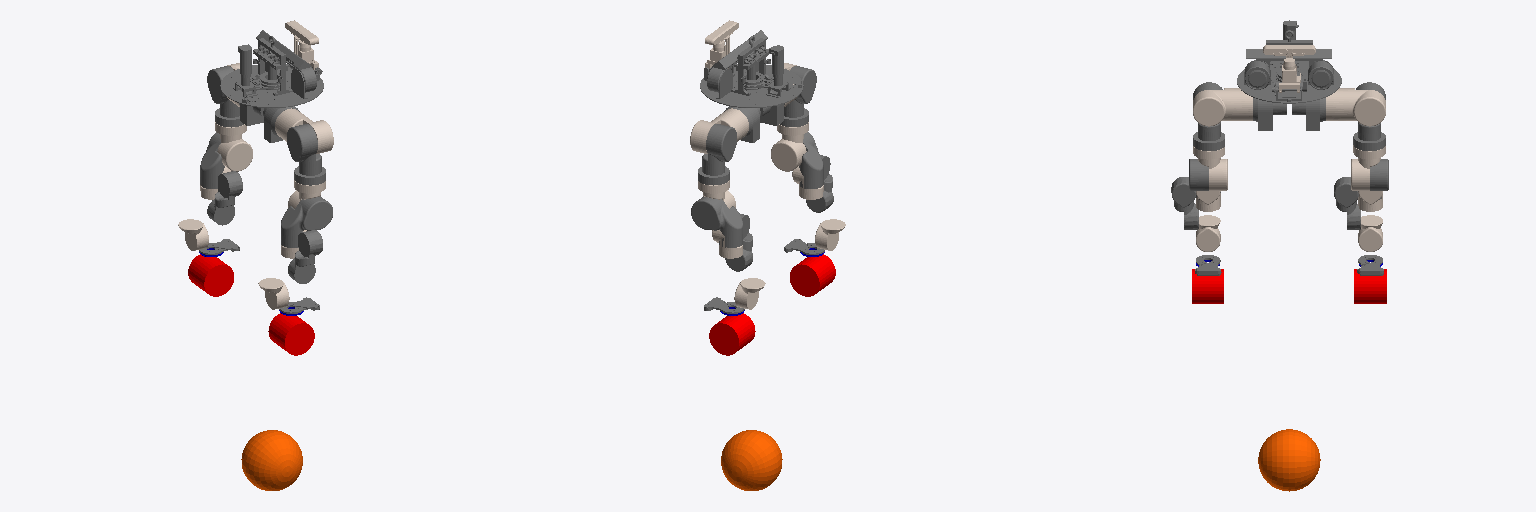
--- What the picture shows (computed from the rendered views, not written in the file) ---
Views: 3 orthographic renders of the robot side by side, from view 1: azimuth 30°, elevation 25°; view 2: azimuth 150°, elevation 25°; view 3: azimuth 270°, elevation 25°.
Robot: ballbot — 55 links, 54 joints (16 revolute, 2 prismatic, 36 fixed); root link BallbotBase; default pose: every joint at zero.
Links seen in each view (by area): view 1: turret_pan, Link_Ball, RArm2, RArm4, payloadL, payloadR, LArm3, LArm6, RArm6, LArm2, RArm1, LArm4 (+4 smaller); view 2: turret_pan, Link_Ball, LArm2, LArm4, payloadR, payloadL, RArm3, LArm1, RArm2, RArm4, turret_tilt, LArm7 (+4 smaller); view 3: turret_pan, Link_Ball, LArm1, RArm1, turret_tilt, payloadL, RArm6, LArm3, payloadR, RArm3, LArm6, LArm2 (+7 smaller).
Link boxes in pixels (x1=…): turret_pan: x1=220, y1=30, x2=323, y2=107; Link_Ball: x1=241, y1=430, x2=302, y2=490; RArm2: x1=287, y1=124, x2=325, y2=185; RArm4: x1=281, y1=196, x2=332, y2=247; payloadL: x1=188, y1=254, x2=233, y2=296; payloadR: x1=268, y1=313, x2=314, y2=355; LArm3: x1=215, y1=122, x2=252, y2=171; LArm6: x1=207, y1=171, x2=242, y2=225; RArm6: x1=288, y1=230, x2=322, y2=283; LArm2: x1=207, y1=66, x2=243, y2=127; RArm1: x1=275, y1=108, x2=333, y2=153; LArm4: x1=200, y1=132, x2=224, y2=188; turret_pan: x1=700, y1=30, x2=803, y2=107; Link_Ball: x1=721, y1=430, x2=782, y2=490; LArm2: x1=698, y1=124, x2=736, y2=185; LArm4: x1=691, y1=196, x2=742, y2=247; payloadR: x1=790, y1=254, x2=835, y2=296; payloadL: x1=709, y1=313, x2=755, y2=355; RArm3: x1=771, y1=122, x2=808, y2=171; LArm1: x1=690, y1=108, x2=748, y2=153; RArm2: x1=780, y1=66, x2=816, y2=126; RArm4: x1=799, y1=132, x2=823, y2=188; turret_tilt: x1=705, y1=20, x2=738, y2=68; LArm7: x1=734, y1=278, x2=765, y2=309; turret_pan: x1=1237, y1=20, x2=1341, y2=103; Link_Ball: x1=1258, y1=429, x2=1320, y2=491; LArm1: x1=1326, y1=88, x2=1385, y2=126; RArm1: x1=1193, y1=88, x2=1252, y2=126; turret_tilt: x1=1263, y1=45, x2=1315, y2=92; payloadL: x1=1354, y1=269, x2=1386, y2=303; RArm6: x1=1171, y1=177, x2=1198, y2=229; LArm3: x1=1351, y1=145, x2=1385, y2=190; payloadR: x1=1192, y1=269, x2=1223, y2=303; RArm3: x1=1193, y1=146, x2=1227, y2=190; LArm6: x1=1334, y1=177, x2=1360, y2=229; LArm2: x1=1353, y1=82, x2=1385, y2=150.
Size in the robot's own frame: 0.385 by 0.7367 by 1.71 metres.
Meshes: 20 distinct files referenced, 22 mesh visuals loaded (13 binary STL); not drawn: 23 (reference not matched to a file when rendering).

robot.urdf — ballbot:
<?xml version="1.0" ?>
<!-- =================================================================================== -->
<!-- |    This document was autogenerated by xacro from robots/ballbot_plus.urdf.xacro | -->
<!-- |    EDITING THIS FILE BY HAND IS NOT RECOMMENDED                                 | -->
<!-- =================================================================================== -->
<robot name="ballbot" xmlns:xacro="http://ros.org/wiki/xacro">
  <material name="black">
    <color rgba="0.0 0.0 0.0 1.0"/>
  </material>
  <material name="blue">
    <color rgba="0.0 0.0 0.8 1.0"/>
  </material>
  <material name="green">
    <color rgba="0.0 0.8 0.0 1.0"/>
  </material>
  <material name="grey">
    <color rgba="0.5 0.5 0.5 1.0"/>
  </material>
  <material name="orange">
    <color rgba="1.0 0.423529411765 0.0392156862745 1.0"/>
  </material>
  <material name="brown">
    <color rgba="0.870588235294 0.811764705882 0.764705882353 1.0"/>
  </material>
  <material name="white">
    <color rgba="1.0 1.0 1.0 1.0"/>
  </material>
  <material name="yellow">
    <color rgba="0.8 0.68 0 1"/>
  </material>
  <material name="red">
    <color rgba="1.0 0.0 0.0 1"/>
  </material>
  <material name="aluminum">
    <color rgba="0.5 0.5 0.5 1"/>
  </material>
  <!-- Use of macros to assemble the robot -->
  <link name="BallbotBase">
    </link>
  <link name="Link_FakeBall">
    <inertial>
      <origin xyz="0.00000 0.00000 0.00000"/>
      <mass value="0.00000"/>
      <inertia ixx="0.00000" ixy="-0.00000" ixz="-0.00000" iyy="0.00000" iyz="-0.00000" izz="0.00000"/>
    </inertial>
  </link>
  <link name="Link_Ball">
    <inertial>
      <origin xyz="0.00000 0.00000 0.00000"/>
      <mass value="2.72"/>
      <inertia ixx="0.01220" ixy="-0.00000" ixz="-0.00000" iyy="0.01220" iyz="-0.00000" izz="0.01220"/>
    </inertial>
    <visual>
      <origin rpy="0.0 0.0 0.0" xyz="0.0 0.0 0.0"/>
      <geometry>
        <sphere radius="0.105838"/>
      </geometry>
      <material name="orange"/>
    </visual>
  </link>
  <link name="Link_FakeBody">
    <inertial>
      <origin xyz="0.00000 0.00000 0.00000"/>
      <mass value="0.00000"/>
      <inertia ixx="0.00000" ixy="-0.00000" ixz="-0.00000" iyy="0.00000" iyz="-0.00000" izz="0.00000"/>
    </inertial>
  </link>
  <link name="Link_Body">
    <inertial>
      <origin xyz="-0.762 0.00000 0.00000"/>
      <mass value="64.86"/>
      <inertia ixx="0.66440" ixy="-0.00000" ixz="-0.00000" iyy="10.61648" iyz="-0.00000" izz="10.61648"/>
    </inertial>
    <visual>
      <!--<origin xyz="${-BODY_HEIGHT/2} 0.0 0.0" rpy="0.0 -1.57079632679 0.0"/>-->
      <origin rpy="0 -1.57079632679 0" xyz="0 0 0"/>
      <geometry>
        <!--<cylinder length="${BODY_HEIGHT}" radius="${BODY_RADIUS}"/>-->
        <mesh filename="package://ballbot_arm_description/meshes/v2020/ballbot_body_v2020.stl"/>
      </geometry>
      <material name="yellow"/>
    </visual>
    <collision>
      <origin rpy="0 -1.57079632679 0" xyz="0 0 0.7025"/>
      <geometry>
        <cylinder length="1.405" radius="0.184"/>
      </geometry>
    </collision>
  </link>
  <link name="LArm0">
    <inertial>
      <origin rpy="0 0 0" xyz="0.0 0.0 0.0"/>
      <mass value="2.367"/>
      <inertia ixx="0.003661" ixy="0.0" ixz="0.00002075" iyy="0.003977" iyz="0.0" izz="0.004605"/>
    </inertial>
    <visual>
      <origin rpy="0 0 0" xyz="0 0 0"/>
      <geometry>
        <mesh filename="package://ballbot_arm_description/meshes/link_base.stl"/>
      </geometry>
      <material name="grey"/>
    </visual>
    <collision>
      <origin rpy="0 0 0" xyz="0 0 0"/>
      <geometry>
        <mesh filename="package://ballbot_arm_description/meshes/link_base.stl"/>
      </geometry>
    </collision>
  </link>
  <link name="LArm1">
    <inertial>
      <origin xyz="0.00063 0.00002 -0.04334"/>
      <mass value="1.52300"/>
      <inertia ixx="-2.48036" ixy="0.00080" ixz="-0.07684" iyy="-2.50246" iyz="0.00260" izz="1.30080"/>
    </inertial>
    <visual>
      <origin rpy="0 0 0" xyz="0.0 0.0 0.0"/>
      <geometry>
        <mesh filename="package://ballbot_arm_description/meshes/v2020/link_shoulder_2_base.stl"/>
      </geometry>
      <material name="brown"/>
    </visual>
    <collision>
      <origin rpy="0 0 0" xyz="0.0 0.0 -0.05525"/>
      <geometry>
        <cylinder length="0.1105" radius="0.05"/>
      </geometry>
      <material name="blue"/>
    </collision>
  </link>
  <link name="LArm2">
    <inertial>
      <origin xyz="0.00063 0.00002 -0.04334"/>
      <mass value="1.52300"/>
      <inertia ixx="-2.48036" ixy="0.00080" ixz="-0.07684" iyy="-2.50246" iyz="0.00260" izz="1.30080"/>
    </inertial>
    <visual>
      <origin rpy="0 0 0" xyz="0.0 0.0 0.0"/>
      <geometry>
        <mesh filename="package://ballbot_arm_description/meshes/v2020/link_shoulder_2_uparm.stl"/>
      </geometry>
      <material name="grey"/>
    </visual>
    <collision>
      <origin rpy="0 0 0" xyz="0.0 0.0 -0.05525"/>
      <geometry>
        <cylinder length="0.1105" radius="0.05"/>
      </geometry>
      <material name="blue"/>
    </collision>
  </link>
  <link name="LArm3">
    <inertial>
      <origin xyz="0.00069 0.00003 -0.03966"/>
      <mass value="1.47100"/>
      <inertia ixx="1.84769" ixy="-0.00110" ixz="-0.07294" iyy="1.87169" iyz="0.00460" izz="1.28440"/>
    </inertial>
    <visual>
      <origin rpy="0 0 0" xyz="0.0 0.0 -0.02718"/>
      <geometry>
        <mesh filename="package://ballbot_arm_description/meshes/v2020/link_upperarm.stl"/>
      </geometry>
      <material name="brown"/>
    </visual>
    <collision>
      <origin rpy="0 0 0" xyz="0.0 0.0 -0.05525"/>
      <geometry>
        <cylinder length="0.1105" radius="0.05"/>
      </geometry>
      <material name="blue"/>
    </collision>
  </link>
  <link name="LArm4">
    <inertial>
      <origin xyz="0.00069 0.00003 -0.03966"/>
      <mass value="1.47100"/>
      <inertia ixx="1.84769" ixy="-0.00110" ixz="-0.07294" iyy="1.87169" iyz="0.00460" izz="1.28440"/>
    </inertial>
    <visual>
      <!--<origin xyz="0.0 0.0 -0.05525" rpy="0 0 0"/>-->
      <origin rpy="0 0 0" xyz="0.0 0.0 0.0"/>
      <geometry>
        <!--<cylinder length="0.1105" radius="0.05"/>-->
        <mesh filename="package://ballbot_arm_description/meshes/v2020/link_forearm.stl"/>
      </geometry>
      <material name="grey"/>
    </visual>
    <collision>
      <origin rpy="0 0 0" xyz="0.0 0.0 -0.05525"/>
      <geometry>
        <cylinder length="0.1105" radius="0.05"/>
      </geometry>
      <material name="blue"/>
    </collision>
  </link>
  <link name="LArm5">
    <inertial>
      <origin xyz="0.00055 -0.00009 -0.03811"/>
      <mass value="0.75700"/>
      <inertia ixx="1.37630" ixy="-0.00120" ixz="-0.04232" iyy="1.38480" iyz="-0.00140" izz="0.50580"/>
    </inertial>
    <visual>
      <origin rpy="0 0 0" xyz="0.0 0.0 0.0"/>
      <geometry>
        <mesh filename="package://ballbot_arm_description/meshes/v2020/link_forearm_2_wrist.stl"/>
      </geometry>
      <material name="brown"/>
    </visual>
    <collision>
      <origin rpy="0 0 0" xyz="0.0 0.0 -0.05525"/>
      <geometry>
        <cylinder length="0.1105" radius="0.05"/>
      </geometry>
      <material name="blue"/>
    </collision>
  </link>
  <link name="LArm6">
    <inertial>
      <origin xyz="0.00055 -0.00009 -0.03811"/>
      <mass value="0.75700"/>
      <inertia ixx="1.37630" ixy="-0.00120" ixz="-0.04232" iyy="1.38480" iyz="-0.00140" izz="0.50580"/>
    </inertial>
    <visual>
      <origin rpy="0 0 0" xyz="0.0 0.0 0.0"/>
      <geometry>
        <mesh filename="package://ballbot_arm_description/meshes/v2020/link_wrist_mid.stl"/>
      </geometry>
      <material name="grey"/>
    </visual>
    <collision>
      <origin rpy="0 0 0" xyz="0.0 0.0 -0.05525"/>
      <geometry>
        <cylinder length="0.1105" radius="0.05"/>
      </geometry>
      <material name="blue"/>
    </collision>
  </link>
  <link name="LArm7">
    <inertial>
      <origin xyz="0.00055 -0.00009 -0.03811"/>
      <mass value="0.75700"/>
      <inertia ixx="1.37630" ixy="-0.00120" ixz="-0.04232" iyy="1.38480" iyz="-0.00140" izz="0.50580"/>
    </inertial>
    <visual>
      <origin rpy="0 0 0" xyz="0.0 0.0 0.0"/>
      <geometry>
        <mesh filename="package://ballbot_arm_description/meshes/v2020/link_wrist_2_hand.stl"/>
      </geometry>
      <material name="brown"/>
    </visual>
    <collision>
      <origin rpy="0 0 0" xyz="0.0 0.0 -0.05525"/>
      <geometry>
        <cylinder length="0.1105" radius="0.05"/>
      </geometry>
      <material name="blue"/>
    </collision>
  </link>
  <link name="RArm0">
    <inertial>
      <origin rpy="0 0 0" xyz="0.0 0.0 0.0"/>
      <mass value="2.367"/>
      <inertia ixx="0.003661" ixy="0.0" ixz="0.00002075" iyy="0.003977" iyz="0.0" izz="0.004605"/>
    </inertial>
    <visual>
      <origin rpy="0 0 0" xyz="0 0 0"/>
      <geometry>
        <mesh filename="package://ballbot_arm_description/meshes/link_base.stl"/>
      </geometry>
      <material name="grey"/>
    </visual>
    <collision>
      <origin rpy="0 0 0" xyz="0 0 0"/>
      <geometry>
        <mesh filename="package://ballbot_arm_description/meshes/link_base.stl"/>
      </geometry>
    </collision>
  </link>
  <link name="RArm1">
    <inertial>
      <origin xyz="0.00063 0.00002 -0.04334"/>
      <mass value="1.52300"/>
      <inertia ixx="-2.48036" ixy="0.00080" ixz="-0.07684" iyy="-2.50246" iyz="0.00260" izz="1.30080"/>
    </inertial>
    <visual>
      <origin rpy="0 0 3.14159265359" xyz="0.0 0.0 0.0"/>
      <geometry>
        <mesh filename="package://ballbot_arm_description/meshes/v2020/link_shoulder_2_base.stl"/>
      </geometry>
      <material name="brown"/>
    </visual>
    <collision>
      <origin rpy="0 0 0" xyz="0.0 0.0 -0.05525"/>
      <geometry>
        <cylinder length="0.1105" radius="0.05"/>
      </geometry>
    </collision>
  </link>
  <link name="RArm2">
    <inertial>
      <origin xyz="0.00063 0.00002 -0.04334"/>
      <mass value="1.52300"/>
      <inertia ixx="-2.48036" ixy="0.00080" ixz="-0.07684" iyy="-2.50246" iyz="0.00260" izz="1.30080"/>
    </inertial>
    <visual>
      <origin rpy="0 0 0" xyz="0.0 0.0 0.0"/>
      <geometry>
        <mesh filename="package://ballbot_arm_description/meshes/v2020/link_shoulder_2_uparm.stl"/>
      </geometry>
      <material name="grey"/>
    </visual>
    <collision>
      <origin rpy="0 0 0" xyz="0.0 0.0 -0.05525"/>
      <geometry>
        <cylinder length="0.1105" radius="0.05"/>
      </geometry>
    </collision>
  </link>
  <link name="RArm3">
    <inertial>
      <origin xyz="0.00069 0.00003 -0.03966"/>
      <mass value="1.47100"/>
      <inertia ixx="1.84769" ixy="-0.00110" ixz="-0.07294" iyy="1.87169" iyz="0.00460" izz="1.28440"/>
    </inertial>
    <visual>
      <origin rpy="0 0 0" xyz="0.0 0.0 -0.02718"/>
      <geometry>
        <mesh filename="package://ballbot_arm_description/meshes/v2020/link_upperarm.stl"/>
      </geometry>
      <material name="brown"/>
    </visual>
    <collision>
      <origin rpy="0 0 0" xyz="0.0 0.0 -0.05525"/>
      <geometry>
        <cylinder length="0.1105" radius="0.05"/>
      </geometry>
    </collision>
  </link>
  <link name="RArm4">
    <inertial>
      <origin xyz="0.00069 0.00003 -0.03966"/>
      <mass value="1.47100"/>
      <inertia ixx="1.84769" ixy="-0.00110" ixz="-0.07294" iyy="1.87169" iyz="0.00460" izz="1.28440"/>
    </inertial>
    <visual>
      <origin rpy="0 0 0" xyz="0.0 0.0 0.0"/>
      <geometry>
        <mesh filename="package://ballbot_arm_description/meshes/v2020/link_forearm_r.stl"/>
      </geometry>
      <material name="grey"/>
    </visual>
    <collision>
      <origin rpy="0 0 0" xyz="0.0 0.0 -0.05525"/>
      <geometry>
        <cylinder length="0.1105" radius="0.05"/>
      </geometry>
    </collision>
  </link>
  <link name="RArm5">
    <inertial>
      <origin xyz="0.00055 -0.00009 -0.03811"/>
      <mass value="0.75700"/>
      <inertia ixx="1.37630" ixy="-0.00120" ixz="-0.04232" iyy="1.38480" iyz="-0.00140" izz="0.50580"/>
    </inertial>
    <visual>
      <origin rpy="0 0 0" xyz="0.0 0.0 0.0"/>
      <geometry>
        <mesh filename="package://ballbot_arm_description/meshes/v2020/link_forearm_2_wrist.stl"/>
      </geometry>
      <material name="brown"/>
    </visual>
    <collision>
      <origin rpy="0 0 0" xyz="0.0 0.0 -0.05525"/>
      <geometry>
        <cylinder length="0.1105" radius="0.05"/>
      </geometry>
    </collision>
  </link>
  <link name="RArm6">
    <inertial>
      <origin xyz="0.00055 -0.00009 -0.03811"/>
      <mass value="0.75700"/>
      <inertia ixx="1.37630" ixy="-0.00120" ixz="-0.04232" iyy="1.38480" iyz="-0.00140" izz="0.50580"/>
    </inertial>
    <visual>
      <origin rpy="0 0 0" xyz="0.0 0.0 0.0"/>
      <geometry>
        <mesh filename="package://ballbot_arm_description/meshes/v2020/link_wrist_mid.stl"/>
      </geometry>
      <material name="grey"/>
    </visual>
    <collision>
      <origin rpy="0 0 0" xyz="0.0 0.0 -0.05525"/>
      <geometry>
        <cylinder length="0.1105" radius="0.05"/>
      </geometry>
    </collision>
  </link>
  <link name="RArm7">
    <inertial>
      <origin xyz="0.00055 -0.00009 -0.03811"/>
      <mass value="0.75700"/>
      <inertia ixx="1.37630" ixy="-0.00120" ixz="-0.04232" iyy="1.38480" iyz="-0.00140" izz="0.50580"/>
    </inertial>
    <visual>
      <origin rpy="0 0 0" xyz="0.0 0.0 0.0"/>
      <geometry>
        <mesh filename="package://ballbot_arm_description/meshes/v2020/link_wrist_2_hand.stl"/>
      </geometry>
      <material name="brown"/>
    </visual>
    <collision>
      <origin rpy="0 0 0" xyz="0.0 0.0 -0.05525"/>
      <geometry>
        <cylinder length="0.1105" radius="0.05"/>
      </geometry>
    </collision>
  </link>
  <joint name="Joint1" type="prismatic">
    <origin rpy="3.141592653589793 1.570796282091413 3.141592653589793" xyz="0.00000 0.00000 0.105838"/>
    <parent link="BallbotBase"/>
    <child link="Link_FakeBall"/>
    <limit effort="30" lower="-5" upper="5" velocity="1.0"/>
    <axis xyz="0 0 1"/>
  </joint>
  <joint name="Joint2" type="prismatic">
    <origin rpy="-1.5707963705062866 0.0 -0.0" xyz="0.00000 0.00000 0.00000"/>
    <parent link="Link_FakeBall"/>
    <child link="Link_Ball"/>
    <limit effort="30" lower="-5" upper="5" velocity="1.0"/>
    <axis xyz="0 0 1"/>
  </joint>
  <joint name="Joint3" type="revolute">
    <origin rpy="0.0 0.0 0.0" xyz="0.00000 0.00000 0.00000"/>
    <parent link="Link_Ball"/>
    <child link="Link_FakeBody"/>
    <limit effort="30" lower="-1.09662271123" upper="1.09662271123" velocity="1.0"/>
    <axis xyz="0 0 1"/>
  </joint>
  <joint name="Joint4" type="revolute">
    <origin rpy="1.5707963705062866 -0.0 0.0" xyz="0.00000 0.00000 0.00000"/>
    <parent link="Link_FakeBody"/>
    <child link="Link_Body"/>
    <limit effort="30" lower="-0.349065850399" upper="1.09662271123" velocity="1.0"/>
    <axis xyz="0 0 1"/>
  </joint>
  <joint name="JLA0" type="fixed">
    <origin rpy="1.57079632679 0.0 -3.14159265359" xyz="-1.32915 0.12314 -0.00635"/>
    <parent link="Link_Body"/>
    <child link="LArm0"/>
    <axis xyz="0 0 1"/>
  </joint>
  <joint name="JLA1" type="revolute">
    <!--<origin xyz="-1.32915 0.12314 -0.00635" rpy="${PI/2} 0.0 ${-PI}"/>
        <parent link="Link_Body"/>-->
    <origin rpy="0.0 0.0 0.0" xyz="0.0 0.0 0.0"/>
    <parent link="LArm0"/>
    <child link="LArm1"/>
    <limit effort="30" lower="-3.14159265359" upper="3.14159265359" velocity="1.0"/>
    <axis xyz="0 0 1"/>
  </joint>
  <joint name="JLA2" type="revolute">
    <origin rpy="1.5707963705062866 -0.0 0.0" xyz="0.00000 -0.05436 0.14900"/>
    <parent link="LArm1"/>
    <child link="LArm2"/>
    <limit effort="30" lower="-1.57079632679" upper="0.0" velocity="1.0"/>
    <axis xyz="0 0 1"/>
    <dynamics damping="1.0" friction="1.0"/>
  </joint>
  <joint name="JLA3" type="revolute">
    <origin rpy="2.0344439357957036 1.5707962290814481 -1.1071487177940917" xyz="-0.17786 0.00000 -0.05436"/>
    <parent link="LArm2"/>
    <child link="LArm3"/>
    <limit effort="30" lower="-3.14159265359" upper="3.14159265359" velocity="1.0"/>
    <axis xyz="0 0 1"/>
    <dynamics damping="1.0" friction="1.0"/>
  </joint>
  <joint name="JLA4" type="revolute">
    <origin rpy="-2.3561944901923457 1.5707962635746238 2.3561944901923457" xyz="0.00000 -0.05436 0.08522"/>
    <parent link="LArm3"/>
    <child link="LArm4"/>
    <limit effort="30" lower="-2.26892802759" upper="0.0" velocity="1.0"/>
    <axis xyz="0 0 1"/>
    <dynamics damping="1.0" friction="1.0"/>
  </joint>
  <joint name="JLA5" type="revolute">
    <origin rpy="-1.5707963705062866 4.371139000186238E-8 1.5707963267948948" xyz="-0.13200 -0.07000 -0.05073"/>
    <parent link="LArm4"/>
    <child link="LArm5"/>
    <limit effort="30" lower="-3.14159265359" upper="3.14159265359" velocity="1.0"/>
    <axis xyz="0 0 1"/>
    <dynamics damping="1.0" friction="1.0"/>
  </joint>
  <joint name="JLA6" type="revolute">
    <origin rpy="2.3561944901923457 1.5707962635746238 -2.3561944901923457" xyz="0.00000 0.04150 0.06000"/>
    <parent link="LArm5"/>
    <child link="LArm6"/>
    <limit effort="30" lower="-1.57079632679" upper="1.57079632679" velocity="1.0"/>
    <axis xyz="0 0 1"/>
    <dynamics damping="1.0" friction="1.0"/>
  </joint>
  <joint name="JLA7" type="revolute">
    <origin rpy="-1.5707963705062866 0.0 -0.0" xyz="-0.10750 0.04650 -0.04150"/>
    <parent link="LArm6"/>
    <child link="LArm7"/>
    <limit effort="30" lower="-1.57079632679" upper="1.57079632679" velocity="1.0"/>
    <axis xyz="0 0 1"/>
    <dynamics damping="1.0" friction="1.0"/>
  </joint>
  <joint name="JRA0" type="fixed">
    <origin rpy="-1.57079632679 0.0 3.14159265359" xyz="-1.32915 -0.12314 -0.00635"/>
    <parent link="Link_Body"/>
    <child link="RArm0"/>
    <axis xyz="0 0 1"/>
  </joint>
  <joint name="JRA1" type="revolute">
    <!--<origin xyz="-1.32915 -0.12314 -0.00635" rpy="${-PI/2} 0.0 ${PI}"/>
        <parent link="Link_Body"/>-->
    <origin rpy="0.0 0.0 0.0" xyz="0.0 0.0 0.0"/>
    <parent link="RArm0"/>
    <child link="RArm1"/>
    <limit effort="30" lower="-3.14159265359" upper="3.14159265359" velocity="1.0"/>
    <axis xyz="0 0 1"/>
    <dynamics damping="1.0" friction="1.0"/>
  </joint>
  <joint name="JRA2" type="revolute">
    <origin rpy="-1.5707963705062866 0.0 -0.0" xyz="0.00000 0.05436 0.14900"/>
    <parent link="RArm1"/>
    <child link="RArm2"/>
    <limit effort="30" lower="0.0" upper="1.57079632679" velocity="1.0"/>
    <axis xyz="0 0 1"/>
    <dynamics damping="1.0" friction="1.0"/>
  </joint>
  <joint name="JRA3" type="revolute">
    <origin rpy="3.141592653589793 -1.570796282091413 3.141592653589793" xyz="-0.17786 0.00000 -0.05436"/>
    <parent link="RArm2"/>
    <child link="RArm3"/>
    <limit effort="30" lower="-3.14159265359" upper="3.14159265359" velocity="1.0"/>
    <axis xyz="0 0 1"/>
    <dynamics damping="1.0" friction="1.0"/>
  </joint>
  <joint name="JRA4" type="revolute">
    <origin rpy="-2.3561944901923457 1.5707962635746238 2.3561944901923457" xyz="0.00000 -0.05436 0.08522"/>
    <parent link="RArm3"/>
    <child link="RArm4"/>
    <limit effort="30" lower="0.0" upper="2.26892802759" velocity="1.0"/>
    <axis xyz="0 0 1"/>
    <dynamics damping="1.0" friction="1.0"/>
  </joint>
  <joint name="JRA5" type="revolute">
    <!--<origin xyz="-0.13200 0.07000 -0.05073" rpy="-1.5707963705062866 4.371139000186238E-8 1.5707963267948948"/>-->
    <origin rpy="-1.57079632679 3.14159265359 1.57079632679" xyz="-0.13200 0.07000 -0.05073"/>
    <parent link="RArm4"/>
    <child link="RArm5"/>
    <limit effort="30" lower="-3.14159265359" upper="3.14159265359" velocity="1.0"/>
    <axis xyz="0 0 1"/>
    <dynamics damping="1.0" friction="1.0"/>
  </joint>
  <joint name="JRA6" type="revolute">
    <origin rpy="2.3561944901923457 1.5707962635746238 -2.3561944901923457" xyz="0.00000 0.04150 0.06000"/>
    <parent link="RArm5"/>
    <child link="RArm6"/>
    <limit effort="30" lower="-1.57079632679" upper="1.57079632679" velocity="1.0"/>
    <axis xyz="0 0 1"/>
    <dynamics damping="1.0" friction="1.0"/>
  </joint>
  <joint name="JRA7" type="revolute">
    <origin rpy="-1.5707963705062866 0.0 -0.0" xyz="-0.10750 0.04650 -0.04150"/>
    <parent link="RArm6"/>
    <child link="RArm7"/>
    <limit effort="30" lower="-1.57079632679" upper="1.57079632679" velocity="1.0"/>
    <axis xyz="0 0 1"/>
    <dynamics damping="1.0" friction="1.0"/>
  </joint>
  <!-- End-Effector frames -->
  <link name="toolR">
    </link>
  <joint name="RArm7-toolR" type="fixed">
    <origin rpy="0 1.57079632679 3.14159265359" xyz="-0.055 0 -0.04065"/>
    <axis xyz="0 0 1"/>
    <parent link="RArm7"/>
    <child link="toolR"/>
  </joint>
  <link name="toolL">
    </link>
  <joint name="LArm7-toolL" type="fixed">
    <origin rpy="0 -1.57079632679 0" xyz="-0.055 0 -0.04065"/>
    <parent link="LArm7"/>
    <child link="toolL"/>
  </joint>
  <link name="turret_pan">
    <visual>
      <origin rpy="0 0 0" xyz="0.0 0.0 0.0"/>
      <geometry>
        <mesh filename="package://ballbot_arm_description/meshes/v2020/turret_pan.stl"/>
      </geometry>
      <material name="grey"/>
    </visual>
  </link>
  <joint name="JTurret_Pan" type="fixed">
    <origin rpy="0 -1.57079632679 0" xyz="-1.405 0 0"/>
    <parent link="Link_Body"/>
    <child link="turret_pan"/>
    <limit effort="30" lower="-3.14159265359" upper="3.14159265359" velocity="1.0"/>
    <axis xyz="0 0 1"/>
    <dynamics damping="1.0" friction="1.0"/>
  </joint>
  <link name="turret_tilt">
    <visual>
      <origin rpy="0 0 0" xyz="0.0 0.0 0.0"/>
      <geometry>
        <mesh filename="package://ballbot_arm_description/meshes/v2020/turret_tilt.stl"/>
      </geometry>
      <material name="brown"/>
    </visual>
  </link>
  <joint name="JTurret_Tilt" type="fixed">
    <origin rpy="1.57079632679 0 3.14159265359" xyz="0.15557 -0.0347980 0.0541020"/>
    <parent link="turret_pan"/>
    <child link="turret_tilt"/>
    <limit effort="30" lower="0" upper="1.57079632679" velocity="1.0"/>
    <axis xyz="0 0 1"/>
    <dynamics damping="1.0" friction="1.0"/>
  </joint>
  <joint name="JL_D435_Mount" type="fixed">
    <origin rpy="0 0 0" xyz="0 0 0.0"/>
    <axis xyz="0 0 1"/>
    <parent link="toolL"/>
    <child link="L_D435_Mount"/>
  </joint>
  <link name="L_D435_Mount">
    <visual>
      <origin rpy="0 0 0" xyz="0 0 0"/>
      <geometry>
        <mesh filename="package://ballbot_arm_description/meshes/intelrealsense_mount.stl"/>
      </geometry>
      <material name="grey"/>
    </visual>
    <collision>
      <origin rpy="0 0 0" xyz="0 0 0"/>
      <geometry>
        <mesh filename="package://ballbot_arm_description/meshes/intelrealsense_mount.stl"/>
      </geometry>
    </collision>
    <inertial>
      <origin rpy="0 0 0" xyz="0 0 0"/>
      <mass value="0.001"/>
      <inertia ixx="1e-10" ixy="0.0" ixz="0.0" iyy="1e-10" iyz="0.0" izz="1e-10"/>
    </inertial>
  </link>
  <!-- camera body, with origin at bottom screw mount -->
  <joint name="LD435_camera_joint" type="fixed">
    <origin rpy="0.0 -1.3962634016 0.0 " xyz="-0.064427 0 0.016981"/>
    <parent link="L_D435_Mount"/>
    <child link="LD435_camera_bottom_screw_frame"/>
  </joint>
  <link name="LD435_camera_bottom_screw_frame"/>
  <joint name="LD435_camera_link_joint" type="fixed">
    <origin rpy="0 0 0" xyz="0 0.0175 0.0125"/>
    <parent link="LD435_camera_bottom_screw_frame"/>
    <child link="LD435_camera_link"/>
  </joint>
  <link name="LD435_camera_link">
    <visual>
      <origin rpy="1.57079632679 0 1.57079632679" xyz="0.0149 -0.0175 0"/>
      <geometry>
        <!-- <box size="${d435_cam_width} ${d435_cam_height} ${d435_cam_depth}"/> -->
        <mesh filename="package://realsense2_description/meshes/d435.dae"/>
      </geometry>
    </visual>
    <collision>
      <origin rpy="0 0 0" xyz="0 -0.0175 0"/>
      <geometry>
        <box size="0.02505 0.09 0.025"/>
      </geometry>
    </collision>
    <inertial>
      <!-- The following are not reliable values, and should not be used for modeling -->
      <mass value="0.564"/>
      <origin xyz="0 0 0"/>
      <inertia ixx="0.003881243" ixy="0.0" ixz="0.0" iyy="0.000498940" iyz="0.0" izz="0.003879257"/>
    </inertial>
  </link>
  <!-- Use the nominal extrinsics between camera frames if the calibrated extrinsics aren't being published. e.g. running the device in simulation  -->
  <joint name="JL_B4277" type="fixed">
    <origin rpy="0 0 0" xyz="0 0 0.006"/>
    <axis xyz="0 0 1"/>
    <parent link="L_D435_Mount"/>
    <child link="L_B4277_link"/>
  </joint>
  <link name="L_B4277_link">
    <visual>
      <origin rpy="0 0 0" xyz="0 0 0"/>
      <geometry>
        <mesh filename="package://ballbot_arm_description/meshes/link_B4277.stl"/>
      </geometry>
      <material name="blue"/>
    </visual>
    <collision>
      <origin rpy="0 0 0" xyz="0 0 0"/>
      <geometry>
        <mesh filename="package://ballbot_arm_description/meshes/link_B4277.stl"/>
      </geometry>
    </collision>
    <inertial>
      <origin rpy="0 0 0" xyz="0 0 0"/>
      <mass value="0.0001"/>
      <inertia ixx="1e-10" ixy="0.0" ixz="0.00" iyy="1e-10" iyz="0.0" izz="1e-10"/>
    </inertial>
  </link>
  <joint name="L_bh_base_joint" type="fixed">
    <origin rpy="0 0 1.57079632679" xyz="0 0 0.008"/>
    <parent link="L_B4277_link"/>
    <child link="L_bh_base_link"/>
  </joint>
  <!-- HAND BASE_LINK (RED) -->
  <link name="L_bh_base_link">
    <inertial>
      <mass value="3.0"/>
      <origin xyz="0 0 0"/>
      <inertia ixx="1.0" ixy="0.0" ixz="0.0" iyy="1.0" iyz="0.0" izz="1.0"/>
    </inertial>
    <visual>
      <origin rpy="0 0 0" xyz="0 0 0"/>
      <geometry>
        <mesh filename="package://barrett_hand_description/meshes/palm_282.dae"/>
      </geometry>
      <material name="Grey">
        <color rgba="0.75 0.75 0.75 1.0"/>
      </material>
    </visual>
    <collision>
      <origin rpy="0 0 0 " xyz="0 0 0"/>
      <geometry>
        <mesh filename="package://barrett_hand_description/meshes/palm_282.dae"/>
      </geometry>
      <contact_coefficients kd="1.0" kp="1000.0" mu="0"/>
    </collision>
  </link>
  <!-- finger 3 -->
  <!-- finger 31 link -->
  <link name="L_bh_finger_31_link">
    <inertial>
      <mass value="0.1"/>
      <origin rpy="0 0 0" xyz="-0.046 0 0"/>
      <inertia ixx="0.01" ixy="0" ixz="0" iyy="0.01" iyz="0" izz="0.01"/>
    </inertial>
    <visual>
      <origin rpy="0 0 0" xyz="-0.04 0 0"/>
      <geometry>
        <mesh filename="package://barrett_hand_description/meshes/knuckle_fixed.dae"/>
      </geometry>
      <material name="Black"/>
    </visual>
    <collision>
      <origin rpy="0 0 0" xyz="-0.04 0 0"/>
      <geometry>
        <mesh filename="package://barrett_hand_description/meshes/knuckle_fixed.dae"/>
      </geometry>
      <contact_coefficients kd="1.0" kp="1000.0" mu="0"/>
    </collision>
  </link>
  <!-- joint between BH_palm_link and BH_finger_31_link -->
  <!-- finger3 is the center finger and is fixed -->
  <joint name="L_bh_j31_joint" type="fixed">
    <parent link="L_bh_base_link"/>
    <child link="L_bh_finger_31_link"/>
    <origin rpy="0 0 -1.570796327" xyz="0 0 0.0252"/>
  </joint>
  <!-- finger 32 link -->
  <link name="L_bh_finger_32_link">
    <inertial>
      <mass value="0.1"/>
      <origin rpy="0 0 0" xyz="0 0 0"/>
      <inertia ixx="0.01" ixy="0" ixz="0" iyy="0.01" iyz="0" izz="0.01"/>
    </inertial>
    <visual>
      <origin rpy="0 0 0" xyz="0 0 0"/>
      <geometry>
        <mesh filename="package://barrett_hand_description/meshes/finger.dae"/>
      </geometry>
      <material name="Blue"/>
    </visual>
    <collision>
      <origin rpy="0 0 0" xyz="0 0 0"/>
      <geometry>
        <mesh filename="package://barrett_hand_description/meshes/finger.dae"/>
      </geometry>
      <contact_coefficients kd="1.0" kp="1000.0" mu="0"/>
    </collision>
  </link>
  <!-- joint between BH_finger_31_link and BH_finger_32_link -->
  <joint name="L_bh_j32_joint" type="fixed">
    <parent link="L_bh_finger_31_link"/>
    <child link="L_bh_finger_32_link"/>
    <origin rpy="1.5708 1 0" xyz="-0.05 0 0.0339"/>
    <axis xyz="0 0 -1"/>
    <limit effort="30.0" lower="0.0" upper="2.44" velocity="2.0"/>
    <dynamics damping="100.0" friction="1.0"/>
  </joint>
  <transmission name="L_bh_j32_transmission">
    <type>transmission_interface/SimpleTransmission</type>
    <joint name="L_bh_j32_joint">
      <hardwareInterface>PositionJointInterface</hardwareInterface>
    </joint>
    <actuator name="L_bh_j32">
      <hardwareInterface>PositionJointInterface</hardwareInterface>
      <mechanicalReduction>1</mechanicalReduction>
      <motorTorqueConstant>1</motorTorqueConstant>
    </actuator>
  </transmission>
  <!-- finger 33 link -->
  <link name="L_bh_finger_33_link">
    <inertial>
      <mass value="0.1"/>
      <origin rpy="0 0 0" xyz="0 0 0"/>
      <inertia ixx="0.01" ixy="0" ixz="0" iyy="0.01" iyz="0" izz="0.01"/>
    </inertial>
    <visual>
      <origin rpy="0 0 0" xyz="0 0 0"/>
      <geometry>
        <mesh filename="package://barrett_hand_description/meshes/finger_tip.dae"/>
      </geometry>
      <material name="Blue"/>
    </visual>
    <collision>
      <origin rpy="0 0 0" xyz="0 0 0"/>
      <geometry>
        <mesh filename="package://barrett_hand_description/meshes/finger_tip.dae"/>
      </geometry>
      <contact_coefficients kd="1.0" kp="1000.0" mu="0"/>
    </collision>
  </link>
  <!-- joint between BH_finger_32_link and BH_finger_33_link -->
  <joint name="L_bh_j33_joint" type="fixed">
    <parent link="L_bh_finger_32_link"/>
    <child link="L_bh_finger_33_link"/>
    <origin rpy="0 0 -0.5" xyz="-0.069936 0.003 0"/>
    <axis xyz="0 0 -1"/>
    <mimic joint="L_bh_j32_joint" multiplier="0.344262295082"/>
    <limit effort="30.0" lower="0.0" upper="0.84" velocity="2.0"/>
    <dynamics damping="100.0" friction="1.0"/>
  </joint>
  <transmission name="L_bh_j33_transmission">
    <type>transmission_interface/SimpleTransmission</type>
    <joint name="L_bh_j33_joint">
      <hardwareInterface>PositionJointInterface</hardwareInterface>
    </joint>
    <actuator name="L_bh_j33">
      <hardwareInterface>PositionJointInterface</hardwareInterface>
      <mechanicalReduction>1</mechanicalReduction>
      <motorTorqueConstant>1</motorTorqueConstant>
    </actuator>
  </transmission>
  <!-- finger 1 -->
  <!-- finger 11 link -->
  <link name="L_bh_finger_11_link">
    <inertial>
      <mass value="0.1"/>
      <origin rpy="0 0 0" xyz="-0.046 0 0"/>
      <inertia ixx="0.01" ixy="0" ixz="0" iyy="0.01" iyz="0" izz="0.01"/>
    </inertial>
    <visual>
      <origin rpy="0 0 0" xyz="0 0 0"/>
      <geometry>
        <mesh filename="package://barrett_hand_description/meshes/knuckle.dae"/>
      </geometry>
      <material name="Green"/>
    </visual>
    <collision>
      <origin rpy="0 0 0" xyz="0 0 0"/>
      <geometry>
        <mesh filename="package://barrett_hand_description/meshes/knuckle.dae"/>
      </geometry>
    </collision>
  </link>
  <!-- joint between BH_palm_link and BH_finger_11_link -->
  <joint name="L_bh_j11_joint" type="fixed">
    <parent link="L_bh_base_link"/>
    <child link="L_bh_finger_11_link"/>
    <origin rpy="0 0 1.5708" xyz="-0.025 0 0.0252"/>
    <axis xyz="0 0 -1"/>
    <limit effort="30.0" lower="0" upper="3.1416" velocity="2.0"/>
    <dynamics damping="100.0" friction="1.0"/>
  </joint>
  <transmission name="L_bh_j11_transmission">
    <type>transmission_interface/SimpleTransmission</type>
    <joint name="L_bh_j11_joint">
      <hardwareInterface>PositionJointInterface</hardwareInterface>
    </joint>
    <actuator name="L_bh_j11">
      <hardwareInterface>PositionJointInterface</hardwareInterface>
      <mechanicalReduction>1</mechanicalReduction>
      <motorTorqueConstant>1</motorTorqueConstant>
    </actuator>
  </transmission>
  <!-- finger 12 link -->
  <link name="L_bh_finger_12_link">
    <inertial>
      <mass value="0.1"/>
      <origin rpy="0 0 0" xyz="0 0 0"/>
      <inertia ixx="0.01" ixy="0" ixz="0" iyy="0.01" iyz="0" izz="0.01"/>
    </inertial>
    <visual>
      <origin rpy="0 0 0" xyz="0 0 0"/>
      <geometry>
        <mesh filename="package://barrett_hand_description/meshes/finger.dae"/>
      </geometry>
      <material name="Blue"/>
    </visual>
    <collision>
      <origin rpy="0 0 0" xyz="0 0 0"/>
      <geometry>
        <mesh filename="package://barrett_hand_description/meshes/finger.dae"/>
      </geometry>
      <contact_coefficients kd="1.0" kp="1000.0" mu="0"/>
    </collision>
  </link>
  <!-- joint between BH_finger_11_link and BH_finger_12_link -->
  <joint name="L_bh_j12_joint" type="fixed">
    <parent link="L_bh_finger_11_link"/>
    <child link="L_bh_finger_12_link"/>
    <origin rpy="1.5708 1 0" xyz="-0.05 0 0.0339"/>
    <axis xyz="0 0 -1"/>
    <limit effort="30.0" lower="0.0" upper="2.44" velocity="2.0"/>
    <dynamics damping="100.0" friction="1.0"/>
  </joint>
  <transmission name="L_bh_j12_transmission">
    <type>transmission_interface/SimpleTransmission</type>
    <joint name="L_bh_j12_joint">
      <hardwareInterface>PositionJointInterface</hardwareInterface>
    </joint>
    <actuator name="L_bh_j12">
      <hardwareInterface>PositionJointInterface</hardwareInterface>
      <mechanicalReduction>1</mechanicalReduction>
      <motorTorqueConstant>1</motorTorqueConstant>
    </actuator>
  </transmission>
  <!-- finger 13 link -->
  <link name="L_bh_finger_13_link">
    <inertial>
      <mass value="0.1"/>
      <origin rpy="0 0 0" xyz="0 0 0"/>
      <inertia ixx="0.01" ixy="0" ixz="0" iyy="0.01" iyz="0" izz="0.01"/>
    </inertial>
    <visual>
      <origin rpy="0 0 0" xyz="0 0 0"/>
      <geometry>
        <mesh filename="package://barrett_hand_description/meshes/finger_tip.dae"/>
      </geometry>
      <material name="Blue"/>
    </visual>
    <collision>
      <origin rpy="0 0 0" xyz="0 0 0"/>
      <geometry>
        <mesh filename="package://barrett_hand_description/meshes/finger_tip.dae"/>
      </geometry>
      <contact_coefficients kd="1.0" kp="1000.0" mu="0"/>
    </collision>
  </link>
  <!-- joint between BH_finger_12_link and BH_finger_13_link -->
  <joint name="L_bh_j13_joint" type="fixed">
    <parent link="L_bh_finger_12_link"/>
    <child link="L_bh_finger_13_link"/>
    <origin rpy="0 0 -0.5" xyz="-0.069936 0.003 0"/>
    <axis xyz="0 0 -1"/>
    <mimic joint="L_bh_j12_joint" multiplier="0.344262295082"/>
    <limit effort="30.0" lower="0.0" upper="0.84" velocity="2.0"/>
    <dynamics damping="100.0" friction="1.0"/>
  </joint>
  <transmission name="L_bh_j13_transmission">
    <type>transmission_interface/SimpleTransmission</type>
    <joint name="L_bh_j13_joint">
      <hardwareInterface>PositionJointInterface</hardwareInterface>
    </joint>
    <actuator name="L_bh_j13">
      <hardwareInterface>PositionJointInterface</hardwareInterface>
      <mechanicalReduction>1</mechanicalReduction>
      <motorTorqueConstant>1</motorTorqueConstant>
    </actuator>
  </transmission>
  <!-- finger 2 -->
  <!-- finger 21 link -->
  <link name="L_bh_finger_21_link">
    <inertial>
      <mass value="0.1"/>
      <origin rpy="0 0 0" xyz="-0.046 0 0"/>
      <inertia ixx="0.01" ixy="0" ixz="0" iyy="0.01" iyz="0" izz="0.01"/>
    </inertial>
    <visual>
      <origin rpy="0 0 0" xyz="0 0 0"/>
      <geometry>
        <mesh filename="package://barrett_hand_description/meshes/knuckle.dae"/>
      </geometry>
      <material name="Green"/>
    </visual>
    <collision>
      <origin rpy="0 0 0" xyz="0 0 0"/>
      <geometry>
        <mesh filename="package://barrett_hand_description/meshes/knuckle.dae"/>
      </geometry>
    </collision>
  </link>
  <!-- joint between BH_palm_link and BH_finger_21_link -->
  <joint name="L_bh_j21_joint" type="fixed">
    <parent link="L_bh_base_link"/>
    <child link="L_bh_finger_21_link"/>
    <origin rpy="0 0 1.5708" xyz="0.025 0 0.0252"/>
    <axis xyz="0 0 1"/>
    <mimic joint="L_bh_j11_joint" multiplier="1"/>
    <limit effort="30.0" lower="0" upper="3.1416" velocity="2.0"/>
    <dynamics damping="100.0" friction="1.0"/>
  </joint>
  <transmission name="L_bh_j21_transmission">
    <type>transmission_interface/SimpleTransmission</type>
    <joint name="L_bh_j21_joint">
      <hardwareInterface>PositionJointInterface</hardwareInterface>
    </joint>
    <actuator name="L_bh_j21">
      <hardwareInterface>PositionJointInterface</hardwareInterface>
      <mechanicalReduction>1</mechanicalReduction>
      <motorTorqueConstant>1</motorTorqueConstant>
    </actuator>
  </transmission>
  <!-- finger 12 link -->
  <link name="L_bh_finger_22_link">
    <inertial>
      <mass value="0.1"/>
      <origin rpy="0 0 0" xyz="0 0 0"/>
      <inertia ixx="0.01" ixy="0" ixz="0" iyy="0.01" iyz="0" izz="0.01"/>
    </inertial>
    <visual>
      <origin rpy="0 0 0" xyz="0 0 0"/>
      <geometry>
        <mesh filename="package://barrett_hand_description/meshes/finger.dae"/>
      </geometry>
      <material name="Blue"/>
    </visual>
    <collision>
      <origin rpy="0 0 0" xyz="0 0 0"/>
      <geometry>
        <mesh filename="package://barrett_hand_description/meshes/finger.dae"/>
      </geometry>
      <contact_coefficients kd="1.0" kp="1000.0" mu="0"/>
    </collision>
  </link>
  <!-- joint between BH_finger_21_link and BH_finger_22_link -->
  <joint name="L_bh_j22_joint" type="fixed">
    <parent link="L_bh_finger_21_link"/>
    <child link="L_bh_finger_22_link"/>
    <origin rpy="1.5708 1.0 0" xyz="-0.05 0 0.0339"/>
    <axis xyz="0 0 -1"/>
    <limit effort="30.0" lower="0.0" upper="2.44" velocity="2.0"/>
    <dynamics damping="100.0" friction="1.0"/>
  </joint>
  <transmission name="L_bh_j22_transmission">
    <type>transmission_interface/SimpleTransmission</type>
    <joint name="L_bh_j22_joint">
      <hardwareInterface>PositionJointInterface</hardwareInterface>
    </joint>
    <actuator name="L_bh_j22">
      <hardwareInterface>PositionJointInterface</hardwareInterface>
      <mechanicalReduction>1</mechanicalReduction>
      <motorTorqueConstant>1</motorTorqueConstant>
    </actuator>
  </transmission>
  <!-- finger 23 link -->
  <link name="L_bh_finger_23_link">
    <inertial>
      <mass value="0.1"/>
      <origin rpy="0 0 0" xyz="0 0 0"/>
      <inertia ixx="0.01" ixy="0" ixz="0" iyy="0.01" iyz="0" izz="0.01"/>
    </inertial>
    <visual>
      <origin rpy="0 0 0" xyz="0 0 0"/>
      <geometry>
        <mesh filename="package://barrett_hand_description/meshes/finger_tip.dae"/>
      </geometry>
      <material name="Blue"/>
    </visual>
    <collision>
      <origin rpy="0 0 0" xyz="0 0 0"/>
      <geometry>
        <mesh filename="package://barrett_hand_description/meshes/finger_tip.dae"/>
      </geometry>
      <contact_coefficients kd="1.0" kp="1000.0" mu="0"/>
    </collision>
  </link>
  <!-- joint between BH_finger_22_link and BH_finger_23_link -->
  <joint name="L_bh_j23_joint" type="fixed">
    <parent link="L_bh_finger_22_link"/>
    <child link="L_bh_finger_23_link"/>
    <origin rpy="0 0 -0.5" xyz="-0.069936 0.003 0"/>
    <axis xyz="0 0 -1"/>
    <mimic joint="L_bh_j22_joint" multiplier="0.344262295082"/>
    <limit effort="30.0" lower="0.0" upper="0.84" velocity="2.0"/>
    <dynamics damping="100.0" friction="1.0"/>
  </joint>
  <transmission name="L_bh_j23_transmission">
    <type>transmission_interface/SimpleTransmission</type>
    <joint name="L_bh_j23_joint">
      <hardwareInterface>PositionJointInterface</hardwareInterface>
    </joint>
    <actuator name="L_bh_j23">
      <hardwareInterface>PositionJointInterface</hardwareInterface>
      <mechanicalReduction>1</mechanicalReduction>
      <motorTorqueConstant>1</motorTorqueConstant>
    </actuator>
  </transmission>
  <gazebo>
    <plugin filename="libgazebo_mimic_plugin.so" name="mimic_plugin">
      <joint>L_bh_j11_joint</joint>
      <mimicJoint>L_bh_j21_joint</mimicJoint>
      <multiplier>1</multiplier>
    </plugin>
  </gazebo>
  <gazebo>
    <plugin filename="libgazebo_mimic_plugin.so" name="mimic_plugin">
      <joint>L_bh_j12_joint</joint>
      <mimicJoint>L_bh_j13_joint</mimicJoint>
      <multiplier>0.344</multiplier>
    </plugin>
  </gazebo>
  <gazebo>
    <plugin filename="libgazebo_mimic_plugin.so" name="mimic_plugin">
      <joint>L_bh_j22_joint</joint>
      <mimicJoint>L_bh_j23_joint</mimicJoint>
      <multiplier>0.344</multiplier>
    </plugin>
  </gazebo>
  <gazebo>
    <plugin filename="libgazebo_mimic_plugin.so" name="mimic_plugin">
      <joint>L_bh_j32_joint</joint>
      <mimicJoint>L_bh_j33_joint</mimicJoint>
      <multiplier>0.344</multiplier>
    </plugin>
  </gazebo>
  <gazebo reference="L_bh_base_link">
    <material>Gazebo/White</material>
    <turnGravityOff>False</turnGravityOff>
  </gazebo>
  <gazebo reference="L_bh_finger_31_link">
    <material>Gazebo/Grey</material>
    <turnGravityOff>False</turnGravityOff>
  </gazebo>
  <gazebo reference="L_bh_finger_32_link">
    <material>Gazebo/Grey</material>
    <turnGravityOff>False</turnGravityOff>
  </gazebo>
  <gazebo reference="L_bh_finger_33_link">
    <material>Gazebo/Grey</material>
    <turnGravityOff>False</turnGravityOff>
  </gazebo>
  <gazebo reference="L_bh_finger_11_link">
    <material>Gazebo/Grey</material>
    <turnGravityOff>False</turnGravityOff>
  </gazebo>
  <gazebo reference="L_bh_finger_12_link">
    <material>Gazebo/Grey</material>
    <turnGravityOff>False</turnGravityOff>
  </gazebo>
  <gazebo reference="L_bh_finger_13_link">
    <material>Gazebo/Grey</material>
    <turnGravityOff>False</turnGravityOff>
  </gazebo>
  <gazebo reference="L_bh_finger_21_link">
    <material>Gazebo/Grey</material>
    <turnGravityOff>False</turnGravityOff>
  </gazebo>
  <gazebo reference="L_bh_finger_22_link">
    <material>Gazebo/Grey</material>
    <turnGravityOff>False</turnGravityOff>
  </gazebo>
  <gazebo reference="L_bh_finger_23_link">
    <material>Gazebo/Grey</material>
    <turnGravityOff>False</turnGravityOff>
  </gazebo>
  <joint name="JR_D435_Mount" type="fixed">
    <origin rpy="0 0 3.14159265359" xyz="0 0 0.0"/>
    <axis xyz="0 0 1"/>
    <parent link="toolR"/>
    <child link="R_D435_Mount"/>
  </joint>
  <link name="R_D435_Mount">
    <visual>
      <origin rpy="0 0 0" xyz="0 0 0"/>
      <geometry>
        <mesh filename="package://ballbot_arm_description/meshes/intelrealsense_mount.stl"/>
      </geometry>
      <material name="grey"/>
    </visual>
    <collision>
      <origin rpy="0 0 0" xyz="0 0 0"/>
      <geometry>
        <mesh filename="package://ballbot_arm_description/meshes/intelrealsense_mount.stl"/>
      </geometry>
    </collision>
    <inertial>
      <origin rpy="0 0 0" xyz="0 0 0"/>
      <mass value="0.001"/>
      <inertia ixx="1e-10" ixy="0.0" ixz="0.0" iyy="1e-10" iyz="0.0" izz="1e-10"/>
    </inertial>
  </link>
  <!-- camera body, with origin at bottom screw mount -->
  <joint name="RD435_camera_joint" type="fixed">
    <origin rpy="0.0 -1.3962634016 0.0 " xyz="-0.064427 0 0.016981"/>
    <parent link="R_D435_Mount"/>
    <child link="RD435_camera_bottom_screw_frame"/>
  </joint>
  <link name="RD435_camera_bottom_screw_frame"/>
  <joint name="RD435_camera_link_joint" type="fixed">
    <origin rpy="0 0 0" xyz="0 0.0175 0.0125"/>
    <parent link="RD435_camera_bottom_screw_frame"/>
    <child link="RD435_camera_link"/>
  </joint>
  <link name="RD435_camera_link">
    <visual>
      <origin rpy="1.57079632679 0 1.57079632679" xyz="0.0149 -0.0175 0"/>
      <geometry>
        <!-- <box size="${d435_cam_width} ${d435_cam_height} ${d435_cam_depth}"/> -->
        <mesh filename="package://realsense2_description/meshes/d435.dae"/>
      </geometry>
    </visual>
    <collision>
      <origin rpy="0 0 0" xyz="0 -0.0175 0"/>
      <geometry>
        <box size="0.02505 0.09 0.025"/>
      </geometry>
    </collision>
    <inertial>
      <!-- The following are not reliable values, and should not be used for modeling -->
      <mass value="0.564"/>
      <origin xyz="0 0 0"/>
      <inertia ixx="0.003881243" ixy="0.0" ixz="0.0" iyy="0.000498940" iyz="0.0" izz="0.003879257"/>
    </inertial>
  </link>
  <!-- Use the nominal extrinsics between camera frames if the calibrated extrinsics aren't being published. e.g. running the device in simulation  -->
  <joint name="JR_B4277" type="fixed">
    <origin rpy="0 0 0" xyz="0 0 0.006"/>
    <axis xyz="0 0 1"/>
    <parent link="R_D435_Mount"/>
    <child link="R_B4277_link"/>
  </joint>
  <link name="R_B4277_link">
    <visual>
      <origin rpy="0 0 0" xyz="0 0 0"/>
      <geometry>
        <mesh filename="package://ballbot_arm_description/meshes/link_B4277.stl"/>
      </geometry>
      <material name="blue"/>
    </visual>
    <collision>
      <origin rpy="0 0 0" xyz="0 0 0"/>
      <geometry>
        <mesh filename="package://ballbot_arm_description/meshes/link_B4277.stl"/>
      </geometry>
    </collision>
    <inertial>
      <origin rpy="0 0 0" xyz="0 0 0"/>
      <mass value="0.0001"/>
      <inertia ixx="1e-10" ixy="0.0" ixz="0.00" iyy="1e-10" iyz="0.0" izz="1e-10"/>
    </inertial>
  </link>
  <joint name="R_bh_base_joint" type="fixed">
    <origin rpy="0 0 1.57079632679" xyz="0 0 0.008"/>
    <parent link="R_B4277_link"/>
    <child link="R_bh_base_link"/>
  </joint>
  <!-- HAND BASE_LINK (RED) -->
  <link name="R_bh_base_link">
    <inertial>
      <mass value="3.0"/>
      <origin xyz="0 0 0"/>
      <inertia ixx="1.0" ixy="0.0" ixz="0.0" iyy="1.0" iyz="0.0" izz="1.0"/>
    </inertial>
    <visual>
      <origin rpy="0 0 0" xyz="0 0 0"/>
      <geometry>
        <mesh filename="package://barrett_hand_description/meshes/palm_282.dae"/>
      </geometry>
      <material name="Grey">
        <color rgba="0.75 0.75 0.75 1.0"/>
      </material>
    </visual>
    <collision>
      <origin rpy="0 0 0 " xyz="0 0 0"/>
      <geometry>
        <mesh filename="package://barrett_hand_description/meshes/palm_282.dae"/>
      </geometry>
      <contact_coefficients kd="1.0" kp="1000.0" mu="0"/>
    </collision>
  </link>
  <!-- finger 3 -->
  <!-- finger 31 link -->
  <link name="R_bh_finger_31_link">
    <inertial>
      <mass value="0.1"/>
      <origin rpy="0 0 0" xyz="-0.046 0 0"/>
      <inertia ixx="0.01" ixy="0" ixz="0" iyy="0.01" iyz="0" izz="0.01"/>
    </inertial>
    <visual>
      <origin rpy="0 0 0" xyz="-0.04 0 0"/>
      <geometry>
        <mesh filename="package://barrett_hand_description/meshes/knuckle_fixed.dae"/>
      </geometry>
      <material name="Black"/>
    </visual>
    <collision>
      <origin rpy="0 0 0" xyz="-0.04 0 0"/>
      <geometry>
        <mesh filename="package://barrett_hand_description/meshes/knuckle_fixed.dae"/>
      </geometry>
      <contact_coefficients kd="1.0" kp="1000.0" mu="0"/>
    </collision>
  </link>
  <!-- joint between BH_palm_link and BH_finger_31_link -->
  <!-- finger3 is the center finger and is fixed -->
  <joint name="R_bh_j31_joint" type="fixed">
    <parent link="R_bh_base_link"/>
    <child link="R_bh_finger_31_link"/>
    <origin rpy="0 0 -1.570796327" xyz="0 0 0.0252"/>
  </joint>
  <!-- finger 32 link -->
  <link name="R_bh_finger_32_link">
    <inertial>
      <mass value="0.1"/>
      <origin rpy="0 0 0" xyz="0 0 0"/>
      <inertia ixx="0.01" ixy="0" ixz="0" iyy="0.01" iyz="0" izz="0.01"/>
    </inertial>
    <visual>
      <origin rpy="0 0 0" xyz="0 0 0"/>
      <geometry>
        <mesh filename="package://barrett_hand_description/meshes/finger.dae"/>
      </geometry>
      <material name="Blue"/>
    </visual>
    <collision>
      <origin rpy="0 0 0" xyz="0 0 0"/>
      <geometry>
        <mesh filename="package://barrett_hand_description/meshes/finger.dae"/>
      </geometry>
      <contact_coefficients kd="1.0" kp="1000.0" mu="0"/>
    </collision>
  </link>
  <!-- joint between BH_finger_31_link and BH_finger_32_link -->
  <joint name="R_bh_j32_joint" type="fixed">
    <parent link="R_bh_finger_31_link"/>
    <child link="R_bh_finger_32_link"/>
    <origin rpy="1.5708 1 0" xyz="-0.05 0 0.0339"/>
    <axis xyz="0 0 -1"/>
    <limit effort="30.0" lower="0.0" upper="2.44" velocity="2.0"/>
    <dynamics damping="100.0" friction="1.0"/>
  </joint>
  <transmission name="R_bh_j32_transmission">
    <type>transmission_interface/SimpleTransmission</type>
    <joint name="R_bh_j32_joint">
      <hardwareInterface>PositionJointInterface</hardwareInterface>
    </joint>
    <actuator name="R_bh_j32">
      <hardwareInterface>PositionJointInterface</hardwareInterface>
      <mechanicalReduction>1</mechanicalReduction>
      <motorTorqueConstant>1</motorTorqueConstant>
    </actuator>
  </transmission>
  <!-- finger 33 link -->
  <link name="R_bh_finger_33_link">
    <inertial>
      <mass value="0.1"/>
      <origin rpy="0 0 0" xyz="0 0 0"/>
      <inertia ixx="0.01" ixy="0" ixz="0" iyy="0.01" iyz="0" izz="0.01"/>
    </inertial>
    <visual>
      <origin rpy="0 0 0" xyz="0 0 0"/>
      <geometry>
        <mesh filename="package://barrett_hand_description/meshes/finger_tip.dae"/>
      </geometry>
      <material name="Blue"/>
    </visual>
    <collision>
      <origin rpy="0 0 0" xyz="0 0 0"/>
      <geometry>
        <mesh filename="package://barrett_hand_description/meshes/finger_tip.dae"/>
      </geometry>
      <contact_coefficients kd="1.0" kp="1000.0" mu="0"/>
    </collision>
  </link>
  <!-- joint between BH_finger_32_link and BH_finger_33_link -->
  <joint name="R_bh_j33_joint" type="fixed">
    <parent link="R_bh_finger_32_link"/>
    <child link="R_bh_finger_33_link"/>
    <origin rpy="0 0 -0.5" xyz="-0.069936 0.003 0"/>
    <axis xyz="0 0 -1"/>
    <mimic joint="R_bh_j32_joint" multiplier="0.344262295082"/>
    <limit effort="30.0" lower="0.0" upper="0.84" velocity="2.0"/>
    <dynamics damping="100.0" friction="1.0"/>
  </joint>
  <transmission name="R_bh_j33_transmission">
    <type>transmission_interface/SimpleTransmission</type>
    <joint name="R_bh_j33_joint">
      <hardwareInterface>PositionJointInterface</hardwareInterface>
    </joint>
    <actuator name="R_bh_j33">
      <hardwareInterface>PositionJointInterface</hardwareInterface>
      <mechanicalReduction>1</mechanicalReduction>
      <motorTorqueConstant>1</motorTorqueConstant>
    </actuator>
  </transmission>
  <!-- finger 1 -->
  <!-- finger 11 link -->
  <link name="R_bh_finger_11_link">
    <inertial>
      <mass value="0.1"/>
      <origin rpy="0 0 0" xyz="-0.046 0 0"/>
      <inertia ixx="0.01" ixy="0" ixz="0" iyy="0.01" iyz="0" izz="0.01"/>
    </inertial>
    <visual>
      <origin rpy="0 0 0" xyz="0 0 0"/>
      <geometry>
        <mesh filename="package://barrett_hand_description/meshes/knuckle.dae"/>
      </geometry>
      <material name="Green"/>
    </visual>
    <collision>
      <origin rpy="0 0 0" xyz="0 0 0"/>
      <geometry>
        <mesh filename="package://barrett_hand_description/meshes/knuckle.dae"/>
      </geometry>
    </collision>
  </link>
  <!-- joint between BH_palm_link and BH_finger_11_link -->
  <joint name="R_bh_j11_joint" type="fixed">
    <parent link="R_bh_base_link"/>
    <child link="R_bh_finger_11_link"/>
    <origin rpy="0 0 1.5708" xyz="-0.025 0 0.0252"/>
    <axis xyz="0 0 -1"/>
    <limit effort="30.0" lower="0" upper="3.1416" velocity="2.0"/>
    <dynamics damping="100.0" friction="1.0"/>
  </joint>
  <transmission name="R_bh_j11_transmission">
    <type>transmission_interface/SimpleTransmission</type>
    <joint name="R_bh_j11_joint">
      <hardwareInterface>PositionJointInterface</hardwareInterface>
    </joint>
    <actuator name="R_bh_j11">
      <hardwareInterface>PositionJointInterface</hardwareInterface>
      <mechanicalReduction>1</mechanicalReduction>
      <motorTorqueConstant>1</motorTorqueConstant>
    </actuator>
  </transmission>
  <!-- finger 12 link -->
  <link name="R_bh_finger_12_link">
    <inertial>
      <mass value="0.1"/>
      <origin rpy="0 0 0" xyz="0 0 0"/>
      <inertia ixx="0.01" ixy="0" ixz="0" iyy="0.01" iyz="0" izz="0.01"/>
    </inertial>
    <visual>
      <origin rpy="0 0 0" xyz="0 0 0"/>
      <geometry>
        <mesh filename="package://barrett_hand_description/meshes/finger.dae"/>
      </geometry>
      <material name="Blue"/>
    </visual>
    <collision>
      <origin rpy="0 0 0" xyz="0 0 0"/>
      <geometry>
        <mesh filename="package://barrett_hand_description/meshes/finger.dae"/>
      </geometry>
      <contact_coefficients kd="1.0" kp="1000.0" mu="0"/>
    </collision>
  </link>
  <!-- joint between BH_finger_11_link and BH_finger_12_link -->
  <joint name="R_bh_j12_joint" type="fixed">
    <parent link="R_bh_finger_11_link"/>
    <child link="R_bh_finger_12_link"/>
    <origin rpy="1.5708 1 0" xyz="-0.05 0 0.0339"/>
    <axis xyz="0 0 -1"/>
    <limit effort="30.0" lower="0.0" upper="2.44" velocity="2.0"/>
    <dynamics damping="100.0" friction="1.0"/>
  </joint>
  <transmission name="R_bh_j12_transmission">
    <type>transmission_interface/SimpleTransmission</type>
    <joint name="R_bh_j12_joint">
      <hardwareInterface>PositionJointInterface</hardwareInterface>
    </joint>
    <actuator name="R_bh_j12">
      <hardwareInterface>PositionJointInterface</hardwareInterface>
      <mechanicalReduction>1</mechanicalReduction>
      <motorTorqueConstant>1</motorTorqueConstant>
    </actuator>
  </transmission>
  <!-- finger 13 link -->
  <link name="R_bh_finger_13_link">
    <inertial>
      <mass value="0.1"/>
      <origin rpy="0 0 0" xyz="0 0 0"/>
      <inertia ixx="0.01" ixy="0" ixz="0" iyy="0.01" iyz="0" izz="0.01"/>
    </inertial>
    <visual>
      <origin rpy="0 0 0" xyz="0 0 0"/>
      <geometry>
        <mesh filename="package://barrett_hand_description/meshes/finger_tip.dae"/>
      </geometry>
      <material name="Blue"/>
    </visual>
    <collision>
      <origin rpy="0 0 0" xyz="0 0 0"/>
      <geometry>
        <mesh filename="package://barrett_hand_description/meshes/finger_tip.dae"/>
      </geometry>
      <contact_coefficients kd="1.0" kp="1000.0" mu="0"/>
    </collision>
  </link>
  <!-- joint between BH_finger_12_link and BH_finger_13_link -->
  <joint name="R_bh_j13_joint" type="fixed">
    <parent link="R_bh_finger_12_link"/>
    <child link="R_bh_finger_13_link"/>
    <origin rpy="0 0 -0.5" xyz="-0.069936 0.003 0"/>
    <axis xyz="0 0 -1"/>
    <mimic joint="R_bh_j12_joint" multiplier="0.344262295082"/>
    <limit effort="30.0" lower="0.0" upper="0.84" velocity="2.0"/>
    <dynamics damping="100.0" friction="1.0"/>
  </joint>
  <transmission name="R_bh_j13_transmission">
    <type>transmission_interface/SimpleTransmission</type>
    <joint name="R_bh_j13_joint">
      <hardwareInterface>PositionJointInterface</hardwareInterface>
    </joint>
    <actuator name="R_bh_j13">
      <hardwareInterface>PositionJointInterface</hardwareInterface>
      <mechanicalReduction>1</mechanicalReduction>
      <motorTorqueConstant>1</motorTorqueConstant>
    </actuator>
  </transmission>
  <!-- finger 2 -->
  <!-- finger 21 link -->
  <link name="R_bh_finger_21_link">
    <inertial>
      <mass value="0.1"/>
      <origin rpy="0 0 0" xyz="-0.046 0 0"/>
      <inertia ixx="0.01" ixy="0" ixz="0" iyy="0.01" iyz="0" izz="0.01"/>
    </inertial>
    <visual>
      <origin rpy="0 0 0" xyz="0 0 0"/>
      <geometry>
        <mesh filename="package://barrett_hand_description/meshes/knuckle.dae"/>
      </geometry>
      <material name="Green"/>
    </visual>
    <collision>
      <origin rpy="0 0 0" xyz="0 0 0"/>
      <geometry>
        <mesh filename="package://barrett_hand_description/meshes/knuckle.dae"/>
      </geometry>
    </collision>
  </link>
  <!-- joint between BH_palm_link and BH_finger_21_link -->
  <joint name="R_bh_j21_joint" type="fixed">
    <parent link="R_bh_base_link"/>
    <child link="R_bh_finger_21_link"/>
    <origin rpy="0 0 1.5708" xyz="0.025 0 0.0252"/>
    <axis xyz="0 0 1"/>
    <mimic joint="R_bh_j11_joint" multiplier="1"/>
    <limit effort="30.0" lower="0" upper="3.1416" velocity="2.0"/>
    <dynamics damping="100.0" friction="1.0"/>
  </joint>
  <transmission name="R_bh_j21_transmission">
    <type>transmission_interface/SimpleTransmission</type>
    <joint name="R_bh_j21_joint">
      <hardwareInterface>PositionJointInterface</hardwareInterface>
    </joint>
    <actuator name="R_bh_j21">
      <hardwareInterface>PositionJointInterface</hardwareInterface>
      <mechanicalReduction>1</mechanicalReduction>
      <motorTorqueConstant>1</motorTorqueConstant>
    </actuator>
  </transmission>
  <!-- finger 12 link -->
  <link name="R_bh_finger_22_link">
    <inertial>
      <mass value="0.1"/>
      <origin rpy="0 0 0" xyz="0 0 0"/>
      <inertia ixx="0.01" ixy="0" ixz="0" iyy="0.01" iyz="0" izz="0.01"/>
    </inertial>
    <visual>
      <origin rpy="0 0 0" xyz="0 0 0"/>
      <geometry>
        <mesh filename="package://barrett_hand_description/meshes/finger.dae"/>
      </geometry>
      <material name="Blue"/>
    </visual>
    <collision>
      <origin rpy="0 0 0" xyz="0 0 0"/>
      <geometry>
        <mesh filename="package://barrett_hand_description/meshes/finger.dae"/>
      </geometry>
      <contact_coefficients kd="1.0" kp="1000.0" mu="0"/>
    </collision>
  </link>
  <!-- joint between BH_finger_21_link and BH_finger_22_link -->
  <joint name="R_bh_j22_joint" type="fixed">
    <parent link="R_bh_finger_21_link"/>
    <child link="R_bh_finger_22_link"/>
    <origin rpy="1.5708 1.0 0" xyz="-0.05 0 0.0339"/>
    <axis xyz="0 0 -1"/>
    <limit effort="30.0" lower="0.0" upper="2.44" velocity="2.0"/>
    <dynamics damping="100.0" friction="1.0"/>
  </joint>
  <transmission name="R_bh_j22_transmission">
    <type>transmission_interface/SimpleTransmission</type>
    <joint name="R_bh_j22_joint">
      <hardwareInterface>PositionJointInterface</hardwareInterface>
    </joint>
    <actuator name="R_bh_j22">
      <hardwareInterface>PositionJointInterface</hardwareInterface>
      <mechanicalReduction>1</mechanicalReduction>
      <motorTorqueConstant>1</motorTorqueConstant>
    </actuator>
  </transmission>
  <!-- finger 23 link -->
  <link name="R_bh_finger_23_link">
    <inertial>
      <mass value="0.1"/>
      <origin rpy="0 0 0" xyz="0 0 0"/>
      <inertia ixx="0.01" ixy="0" ixz="0" iyy="0.01" iyz="0" izz="0.01"/>
    </inertial>
    <visual>
      <origin rpy="0 0 0" xyz="0 0 0"/>
      <geometry>
        <mesh filename="package://barrett_hand_description/meshes/finger_tip.dae"/>
      </geometry>
      <material name="Blue"/>
    </visual>
    <collision>
      <origin rpy="0 0 0" xyz="0 0 0"/>
      <geometry>
        <mesh filename="package://barrett_hand_description/meshes/finger_tip.dae"/>
      </geometry>
      <contact_coefficients kd="1.0" kp="1000.0" mu="0"/>
    </collision>
  </link>
  <!-- joint between BH_finger_22_link and BH_finger_23_link -->
  <joint name="R_bh_j23_joint" type="fixed">
    <parent link="R_bh_finger_22_link"/>
    <child link="R_bh_finger_23_link"/>
    <origin rpy="0 0 -0.5" xyz="-0.069936 0.003 0"/>
    <axis xyz="0 0 -1"/>
    <mimic joint="R_bh_j22_joint" multiplier="0.344262295082"/>
    <limit effort="30.0" lower="0.0" upper="0.84" velocity="2.0"/>
    <dynamics damping="100.0" friction="1.0"/>
  </joint>
  <transmission name="R_bh_j23_transmission">
    <type>transmission_interface/SimpleTransmission</type>
    <joint name="R_bh_j23_joint">
      <hardwareInterface>PositionJointInterface</hardwareInterface>
    </joint>
    <actuator name="R_bh_j23">
      <hardwareInterface>PositionJointInterface</hardwareInterface>
      <mechanicalReduction>1</mechanicalReduction>
      <motorTorqueConstant>1</motorTorqueConstant>
    </actuator>
  </transmission>
  <gazebo>
    <plugin filename="libgazebo_mimic_plugin.so" name="mimic_plugin">
      <joint>R_bh_j11_joint</joint>
      <mimicJoint>R_bh_j21_joint</mimicJoint>
      <multiplier>1</multiplier>
    </plugin>
  </gazebo>
  <gazebo>
    <plugin filename="libgazebo_mimic_plugin.so" name="mimic_plugin">
      <joint>R_bh_j12_joint</joint>
      <mimicJoint>R_bh_j13_joint</mimicJoint>
      <multiplier>0.344</multiplier>
    </plugin>
  </gazebo>
  <gazebo>
    <plugin filename="libgazebo_mimic_plugin.so" name="mimic_plugin">
      <joint>R_bh_j22_joint</joint>
      <mimicJoint>R_bh_j23_joint</mimicJoint>
      <multiplier>0.344</multiplier>
    </plugin>
  </gazebo>
  <gazebo>
    <plugin filename="libgazebo_mimic_plugin.so" name="mimic_plugin">
      <joint>R_bh_j32_joint</joint>
      <mimicJoint>R_bh_j33_joint</mimicJoint>
      <multiplier>0.344</multiplier>
    </plugin>
  </gazebo>
  <gazebo reference="R_bh_base_link">
    <material>Gazebo/White</material>
    <turnGravityOff>False</turnGravityOff>
  </gazebo>
  <gazebo reference="R_bh_finger_31_link">
    <material>Gazebo/Grey</material>
    <turnGravityOff>False</turnGravityOff>
  </gazebo>
  <gazebo reference="R_bh_finger_32_link">
    <material>Gazebo/Grey</material>
    <turnGravityOff>False</turnGravityOff>
  </gazebo>
  <gazebo reference="R_bh_finger_33_link">
    <material>Gazebo/Grey</material>
    <turnGravityOff>False</turnGravityOff>
  </gazebo>
  <gazebo reference="R_bh_finger_11_link">
    <material>Gazebo/Grey</material>
    <turnGravityOff>False</turnGravityOff>
  </gazebo>
  <gazebo reference="R_bh_finger_12_link">
    <material>Gazebo/Grey</material>
    <turnGravityOff>False</turnGravityOff>
  </gazebo>
  <gazebo reference="R_bh_finger_13_link">
    <material>Gazebo/Grey</material>
    <turnGravityOff>False</turnGravityOff>
  </gazebo>
  <gazebo reference="R_bh_finger_21_link">
    <material>Gazebo/Grey</material>
    <turnGravityOff>False</turnGravityOff>
  </gazebo>
  <gazebo reference="R_bh_finger_22_link">
    <material>Gazebo/Grey</material>
    <turnGravityOff>False</turnGravityOff>
  </gazebo>
  <gazebo reference="R_bh_finger_23_link">
    <material>Gazebo/Grey</material>
    <turnGravityOff>False</turnGravityOff>
  </gazebo>
  <!-- Right Payload -->
  <link name="payloadR">
    <inertial>
      <origin xyz="0.0 0.0 0.0"/>
      <mass value="5"/>
      <inertia ixx="0.00225" ixy="0.0" ixz="0.0" iyy="0.006213" iyz="0.0" izz="0.006213"/>
    </inertial>
    <visual>
      <origin rpy="0 1.57079632679 0" xyz="0.0 0.0 0.0"/>
      <geometry>
        <cylinder length="0.1105" radius="0.06"/>
      </geometry>
      <material name="red"/>
    </visual>
  </link>
  <joint name="bh_to_payloadR" type="fixed">
    <origin rpy="0 0 0" xyz="0 0 0.0855"/>
    <parent link="R_bh_base_link"/>
    <child link="payloadR"/>
  </joint>
  <!-- Left Payload -->
  <link name="payloadL">
    <inertial>
      <origin xyz="0.0 0.0 0.0"/>
      <mass value="0"/>
      <inertia ixx="0.00225" ixy="0.0" ixz="0.0" iyy="0.006213" iyz="0.0" izz="0.006213"/>
    </inertial>
    <visual>
      <origin rpy="0 1.57079632679 0" xyz="0.0 0.0 0.0"/>
      <geometry>
        <cylinder length="0.1105" radius="0.06"/>
      </geometry>
      <material name="red"/>
    </visual>
  </link>
  <joint name="bh_to_payloadL" type="fixed">
    <origin rpy="0 0 0" xyz="0 0 0.0855"/>
    <parent link="L_bh_base_link"/>
    <child link="payloadL"/>
  </joint>
</robot>
